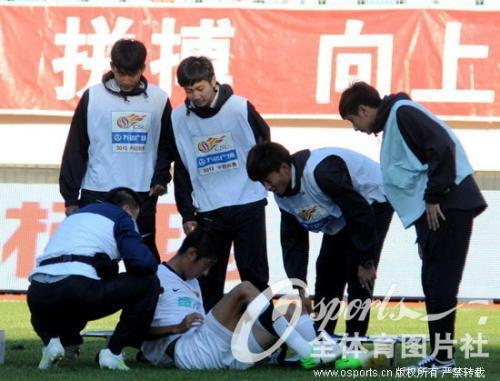Fall-Detected: (129, 217, 321, 374)
